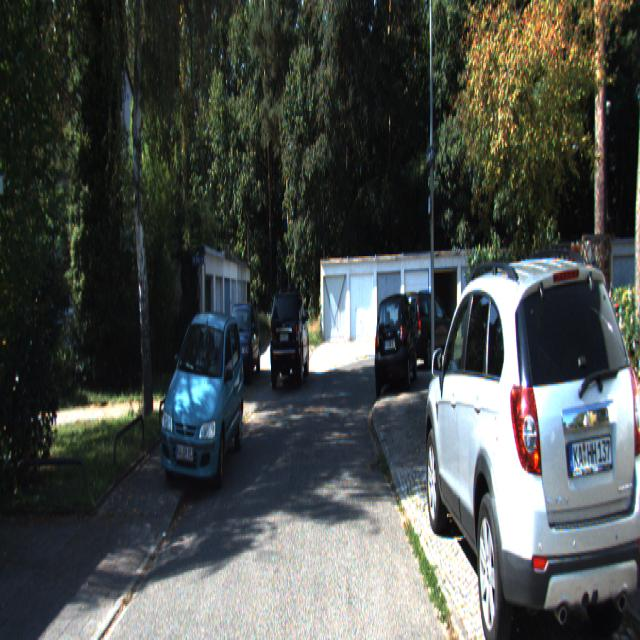Car: (422, 234, 640, 638), (160, 306, 244, 489), (398, 284, 455, 368), (374, 288, 416, 392), (269, 282, 308, 380), (223, 299, 261, 382)
